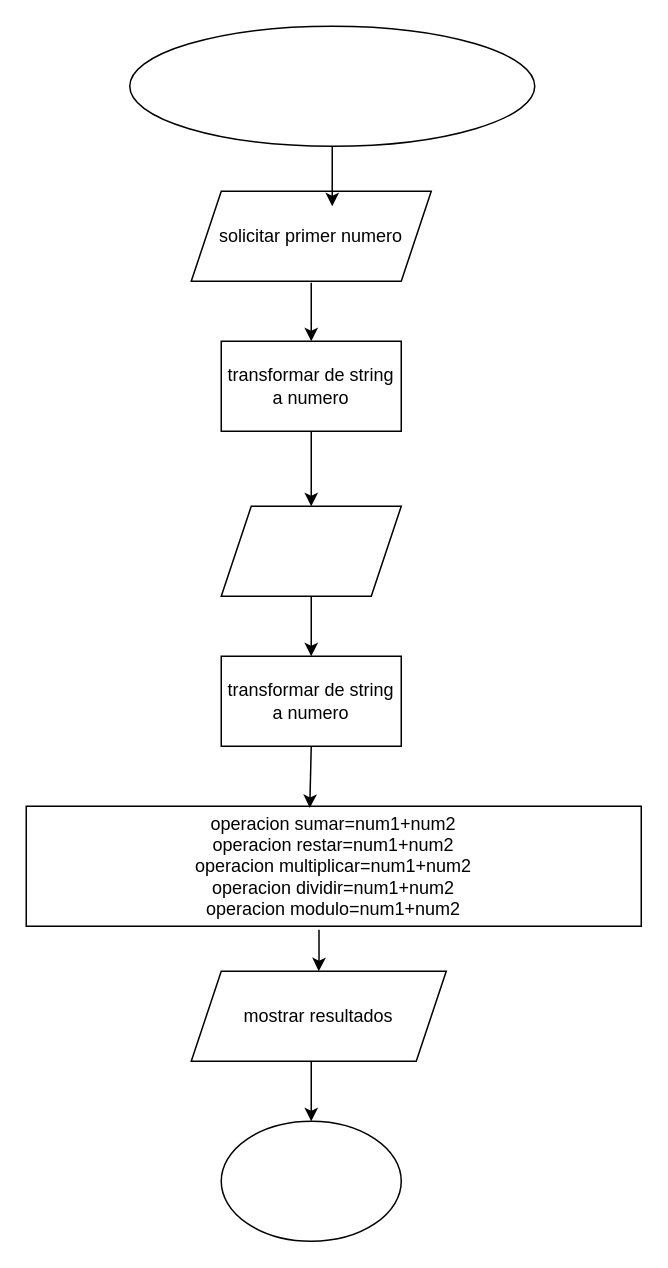
This 668x1268 diagram has some shape labels left out. The centre of each missing label's shape, as x and y in pixels:
"fin de la operacion" belongs at point (310, 1180).
"inicio programa" belongs at point (331, 85).
"solicitar segundo numero" belongs at point (310, 550).
